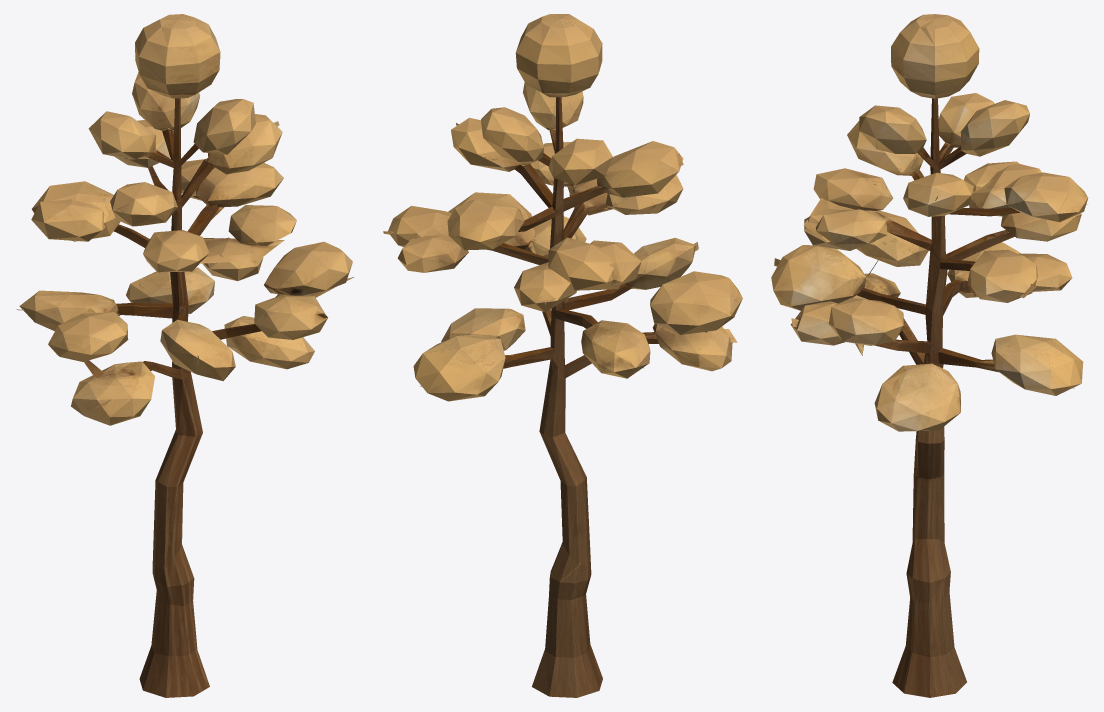
Rendered from tree.glb.
3 views of the same model, side by side, from view 1: azimuth 30°, elevation 25°; view 2: azimuth 150°, elevation 25°; view 3: azimuth 270°, elevation 25° (orthographic).
Bounding box in the file's own units: 1.39 × 3 × 1.3.
Materials: 1 (1 with a texture image).
